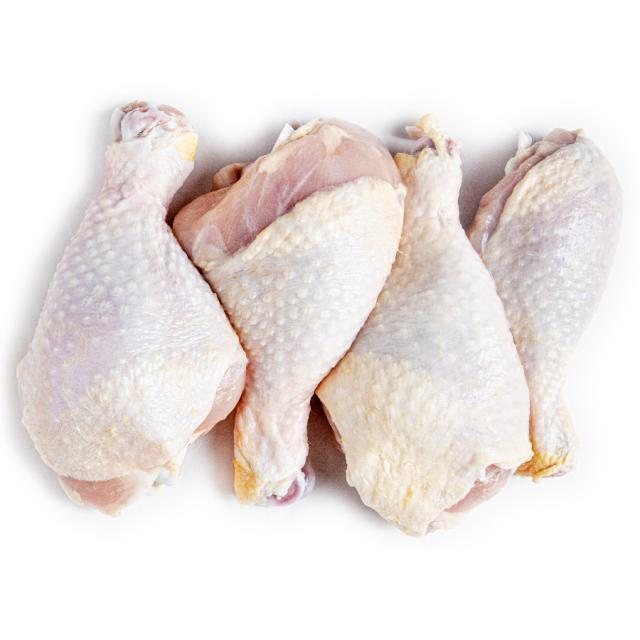leg: (36, 101, 223, 526), (196, 114, 387, 508), (346, 122, 527, 530), (472, 108, 616, 490)
